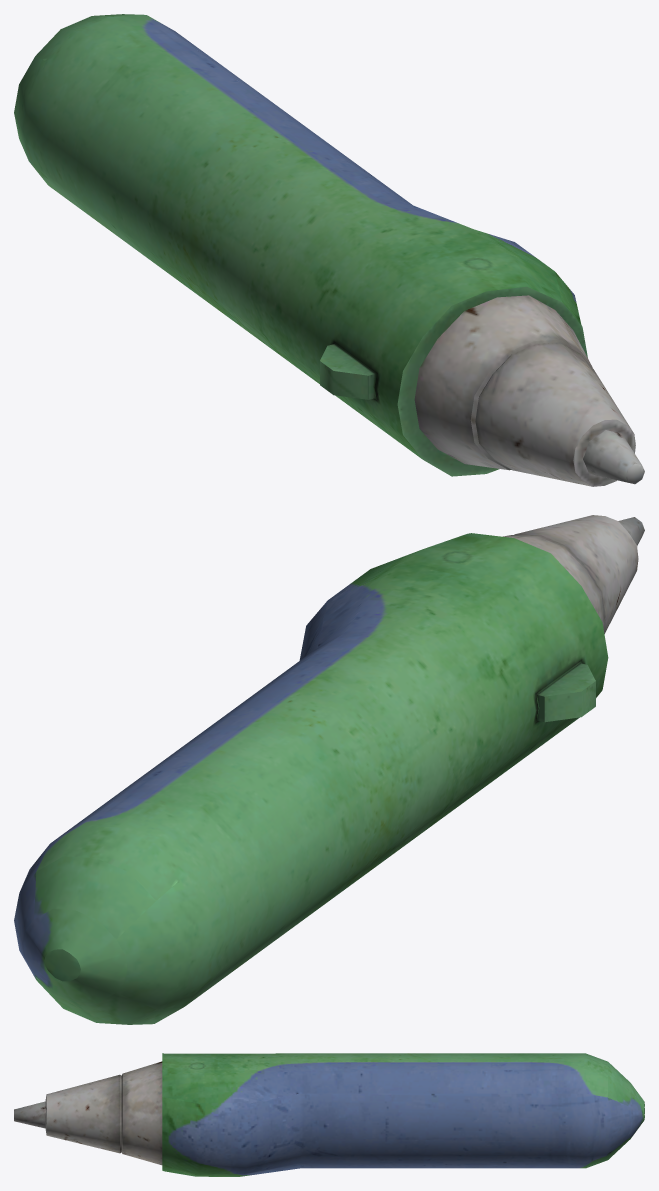
Rendered from soldering_iron.DAE.
3 views of the same model, one above another, from view 1: azimuth 30°, elevation 25°; view 2: azimuth 150°, elevation 25°; view 3: azimuth 270°, elevation 25° (orthographic). The views are drawn at different scales.
Parts seen in each view (by area): view 1: soldering_iron; view 2: soldering_iron; view 3: soldering_iron.
Part boxes in pixels (left/top/right/bottom): soldering_iron: left=14, top=14, right=644, bottom=486; soldering_iron: left=14, top=515, right=644, bottom=1024; soldering_iron: left=14, top=1053, right=644, bottom=1176.
Size of the model in its own units: 1.27 by 0.9154 by 5.07.
